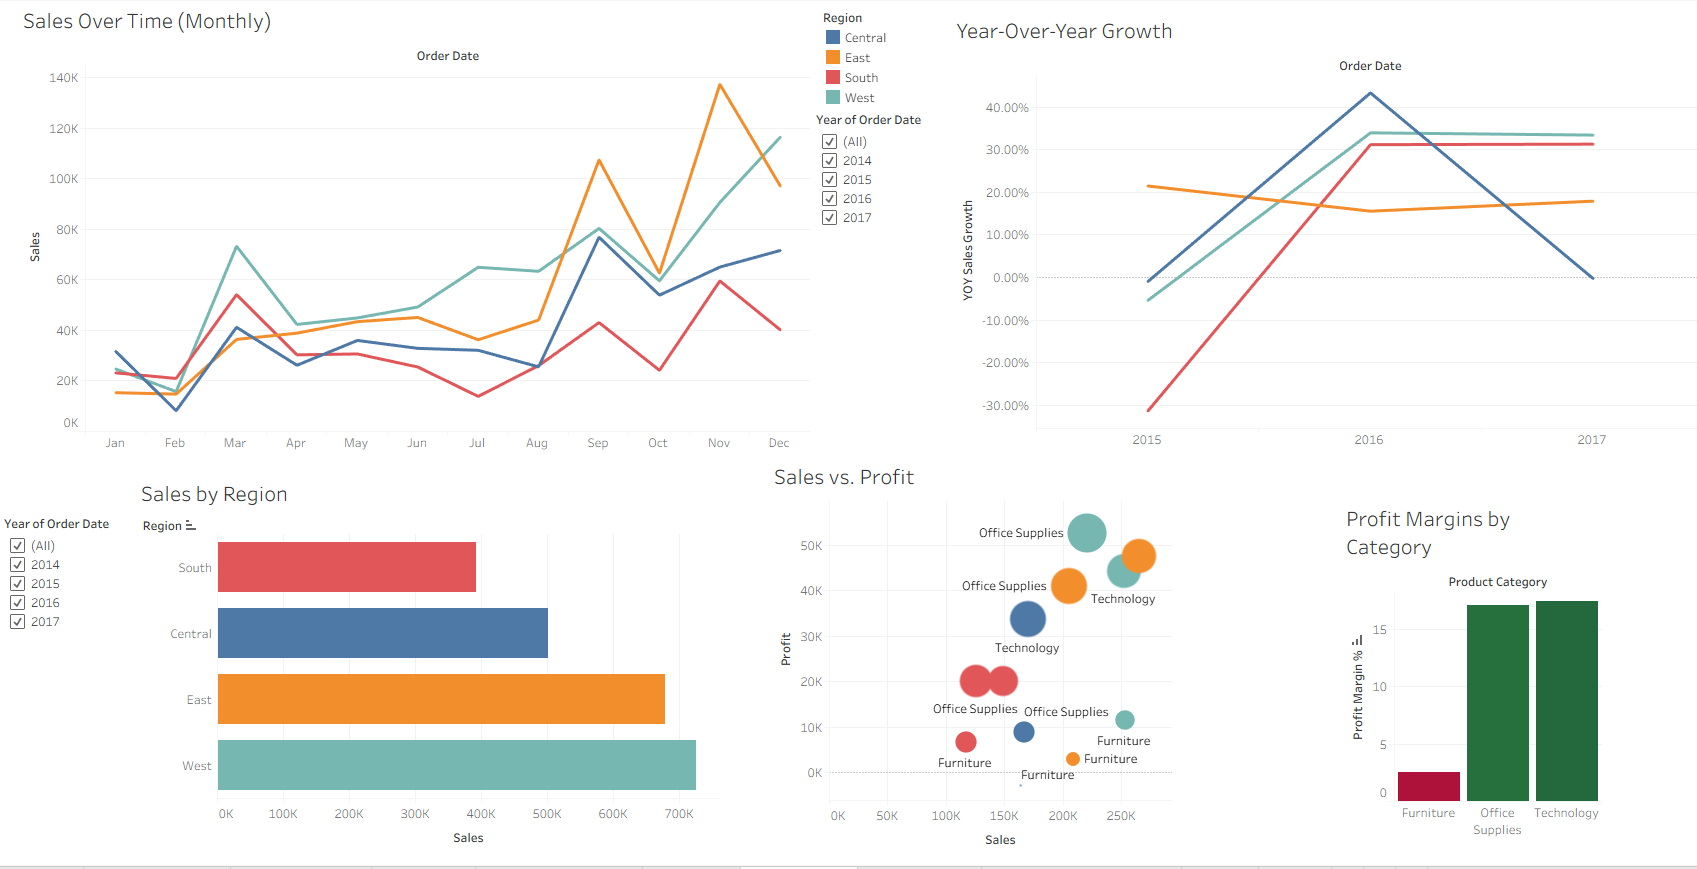

The dashboard page shown, as its layout file describes it:
{"tool":"tableau","page":{"name":"Full Dashboard","canvas":[1000,1000],"units":"permille","ordinal":0},"visuals":[{"type":"worksheet","title":"Sales Over Time (Monthly)","mark":"Automatic","rows":["Sales"],"cols":["Order_Date"],"box":[13.5,1.2,462.8,520.8]},{"type":"legend","title":"Sales Over Time (Monthly)","param":"[federated.0klm1sk0dwrvgl19fv07c0jim41j].[none:Region:nk]","box":[483.9,9.3,44.5,113.4]},{"type":"worksheet","title":"Year-Over-Year Growth","mark":"Automatic","rows":["Calculation2"],"cols":["Order_Date"],"box":[559.4,12.7,440,508.1]},{"type":"filter","title":"Sales Over Time (Monthly)","param":"[federated.0klm1sk0dwrvgl19fv07c0jim41j].[yr:Order_Date:ok]","box":[479.8,127.3,81.3,137.7]},{"type":"worksheet","title":"Sales vs. Profit","mark":"Automatic","rows":["Profit"],"cols":["Sales"],"box":[452.9,528.9,235.2,459.5]},{"type":"worksheet","title":"Sales by Region","mark":"Automatic","rows":["Region"],"cols":["Sales"],"box":[82.5,548.6,341.1,437.5]},{"type":"worksheet","title":"Profit Margins by Category","mark":"Automatic","rows":["Calculation_2085448144588111872"],"cols":["Product_Category"],"box":[787.6,577.6,179.6,394.7]},{"type":"filter","title":"Sales by Region","param":"[federated.0klm1sk0dwrvgl19fv07c0jim41j].[yr:Order_Date:ok]","box":[4.7,594.9,78.4,137.7]}]}

Visuals, with their boxes on the dashboard's canvas, which has no fixed pixel size, in thousandths of its width and height (x1, y1, x2, y2). These are canvas units, not pixel positions in the 1697x869 screenshot, which may show the page scaled, cropped or inside an application window:
"Sales Over Time (Monthly)" worksheet: 14, 1, 476, 522
"Sales Over Time (Monthly)" legend: 484, 9, 528, 123
"Year-Over-Year Growth" worksheet: 559, 13, 999, 521
"Sales Over Time (Monthly)" filter: 480, 127, 561, 265
"Sales vs. Profit" worksheet: 453, 529, 688, 988
"Sales by Region" worksheet: 82, 549, 424, 986
"Profit Margins by Category" worksheet: 788, 578, 967, 972
"Sales by Region" filter: 5, 595, 83, 733
